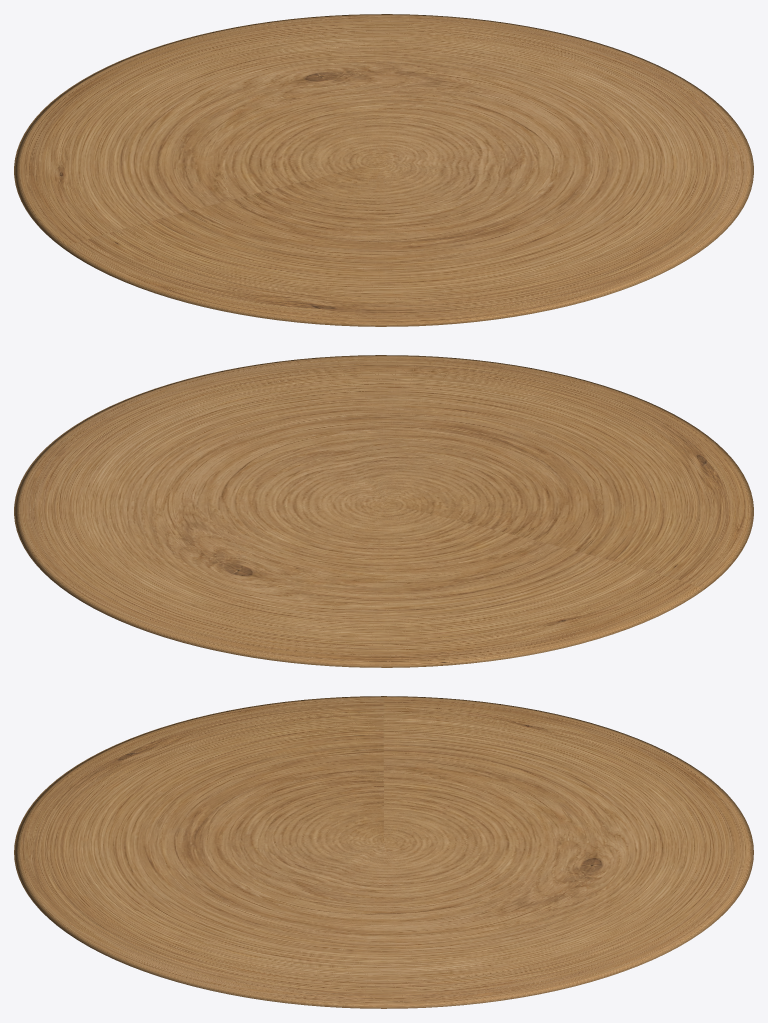
Rendered from orionEncino.glb.
The picture shows the model from 3 angles, top to bottom: view 1: azimuth 30°, elevation 25°; view 2: azimuth 150°, elevation 25°; view 3: azimuth 270°, elevation 25°; orthographic projection.
Parts seen in each view (by area): view 1: Sphere; view 2: Sphere; view 3: Sphere.
Part boxes in pixels (left/top/right/bottom): Sphere: left=14, top=14, right=753, bottom=326; Sphere: left=14, top=355, right=753, bottom=667; Sphere: left=14, top=696, right=753, bottom=1008.
Size of the model in its own units: 3.68 by 0.099 by 3.68.
Materials: 1 (1 with a texture image).
